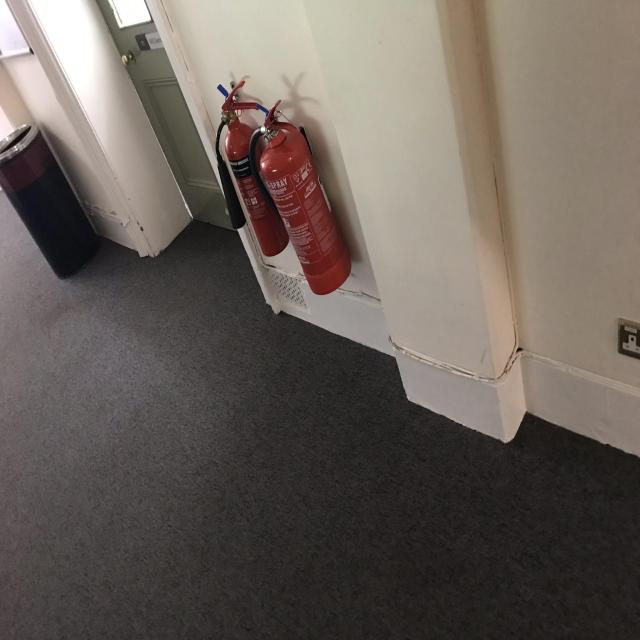fire_extinguisher: (245, 98, 355, 297), (213, 80, 292, 259)
